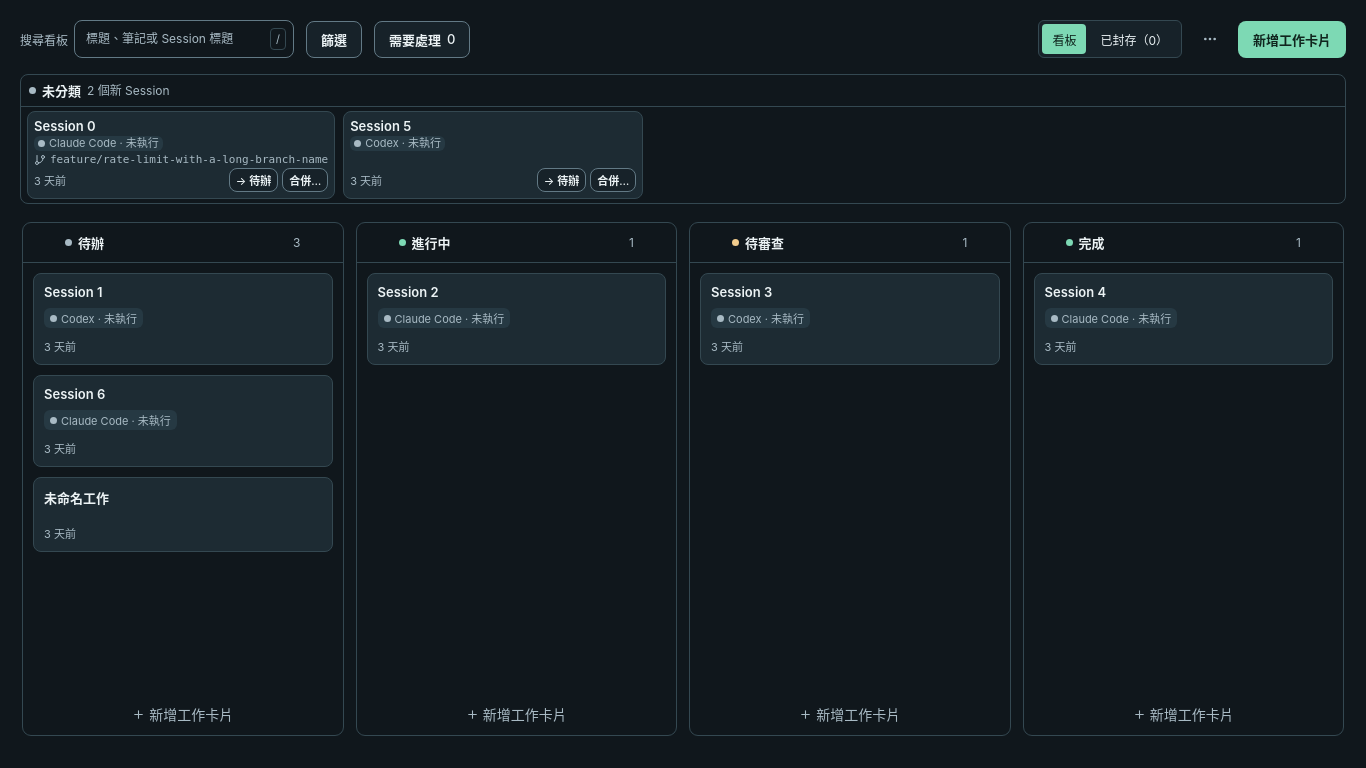
Test: project board › moves through the drawer column selector and retains focus inside the dialog
expect the heading "未分類" is shown: met, box [42,81,81,100]
Click the button "Session 0". click: (65, 126)
box: [34,118,328,134]
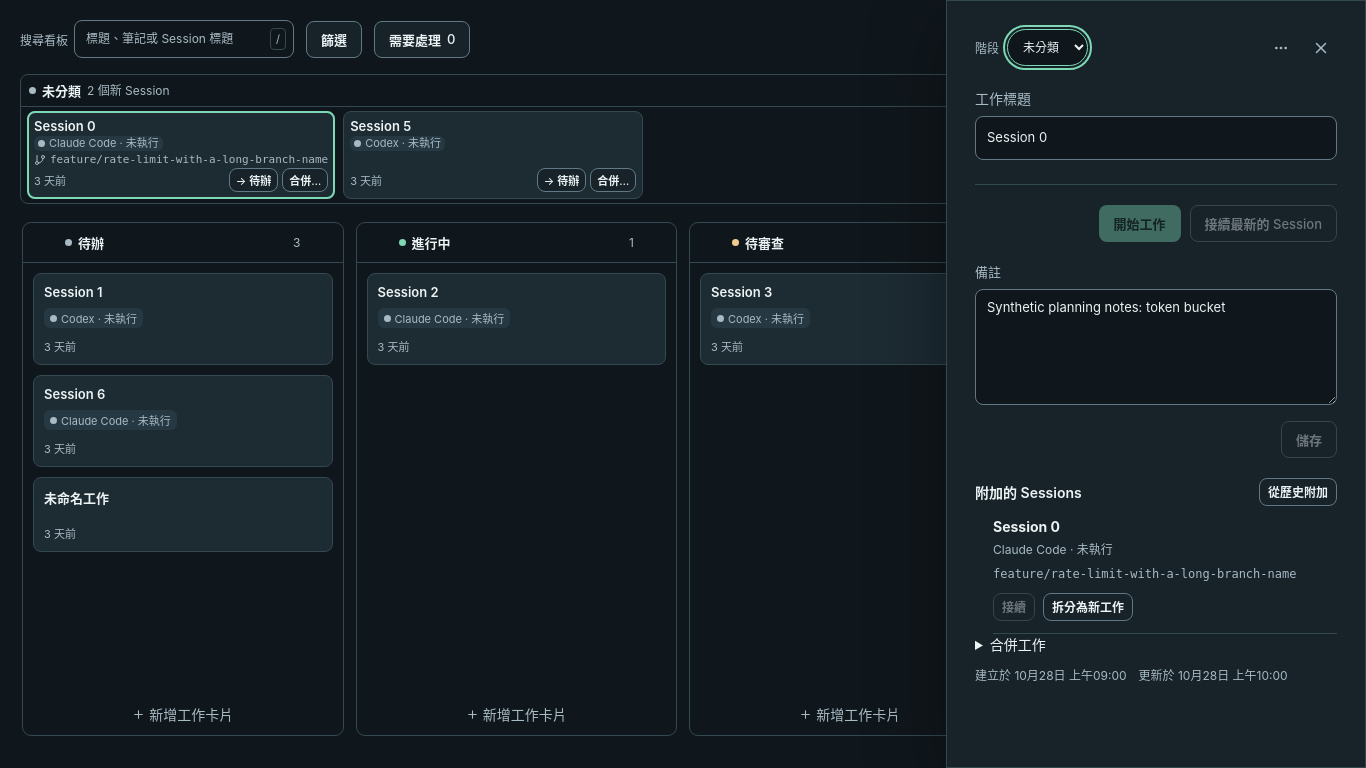
Select "完成" in the dropdown labelled "階段". click: (1048, 48)
box: [1007,29,1088,66]
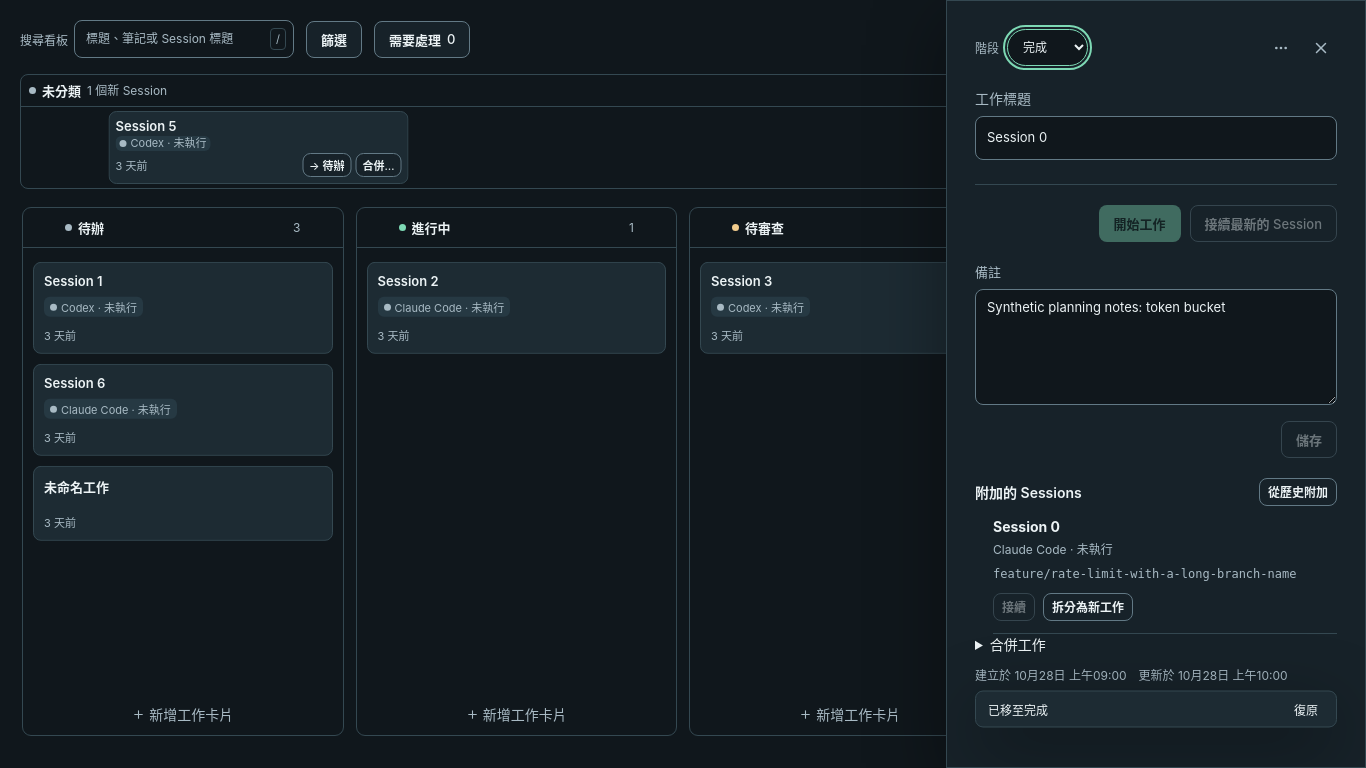
expect the text "Session 0" is shown: met, box [993,518,1060,534]
expect the button "復原" is enabled: met, box [1288,699,1324,718]
